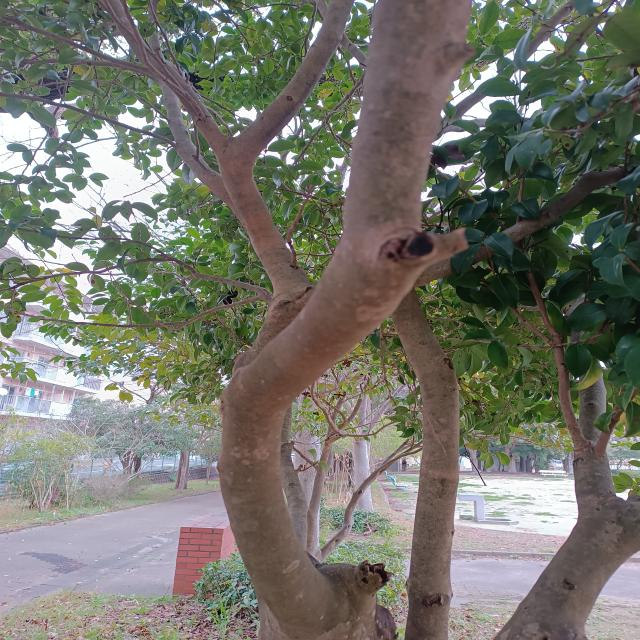Branch: (216, 0, 473, 617), (221, 135, 312, 303)
Twig: (99, 0, 227, 159), (242, 0, 357, 153), (163, 84, 232, 209)
